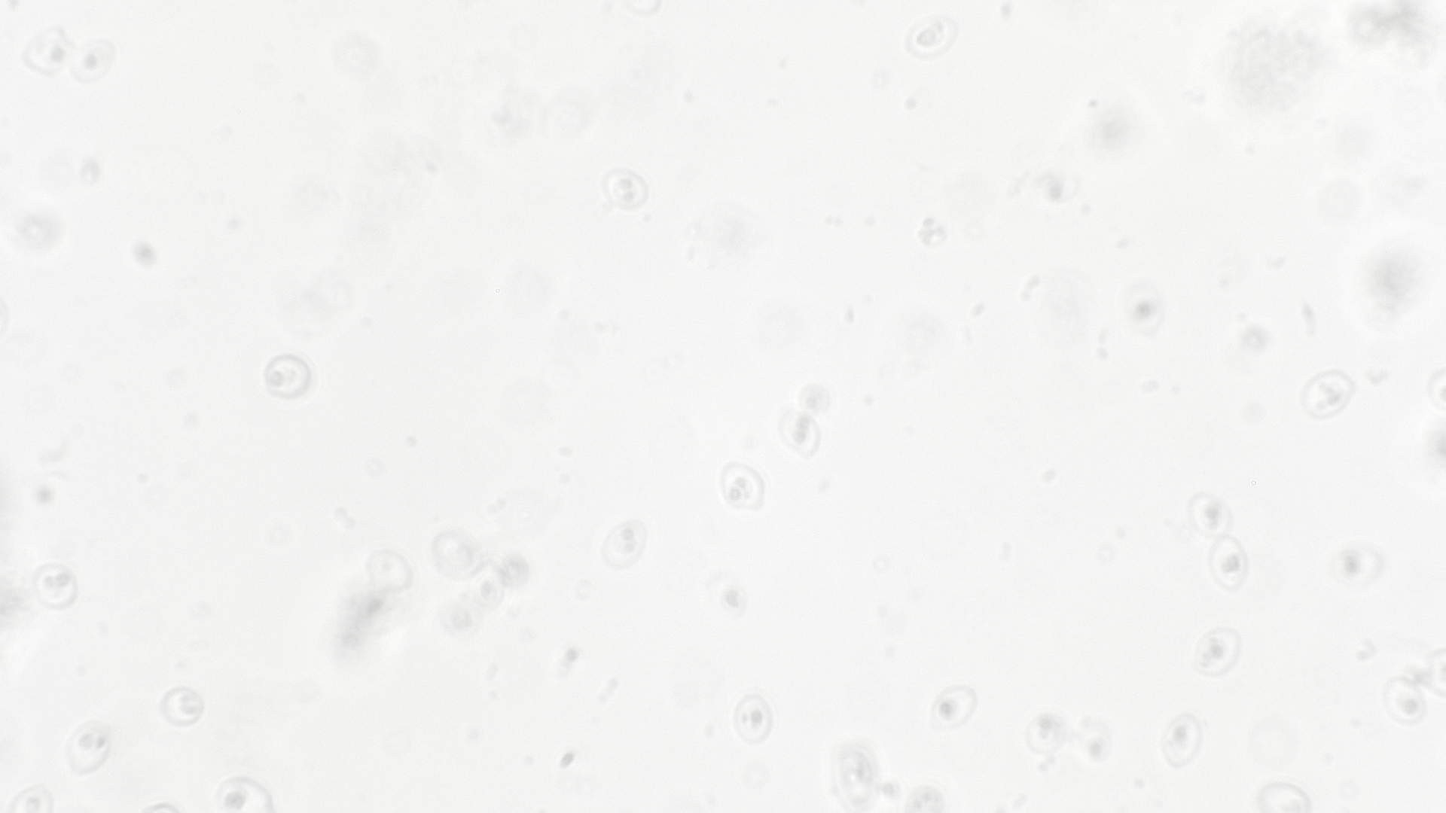yeast: (1188, 620, 1252, 688), (1295, 364, 1356, 429), (1200, 531, 1264, 592), (61, 712, 117, 781), (926, 678, 987, 741), (709, 455, 769, 518), (725, 688, 784, 751), (1152, 705, 1210, 769), (26, 557, 86, 617), (895, 12, 968, 60), (700, 564, 756, 626), (1117, 274, 1167, 342), (1377, 672, 1435, 729), (423, 525, 483, 580), (773, 399, 820, 467), (19, 23, 77, 78), (1327, 537, 1386, 590), (1181, 483, 1234, 540), (69, 33, 122, 86), (157, 681, 212, 732), (601, 516, 651, 572), (602, 161, 654, 213), (362, 544, 416, 594), (1023, 704, 1073, 755), (262, 353, 313, 399), (1071, 711, 1113, 766), (795, 374, 840, 423), (468, 554, 508, 609)
